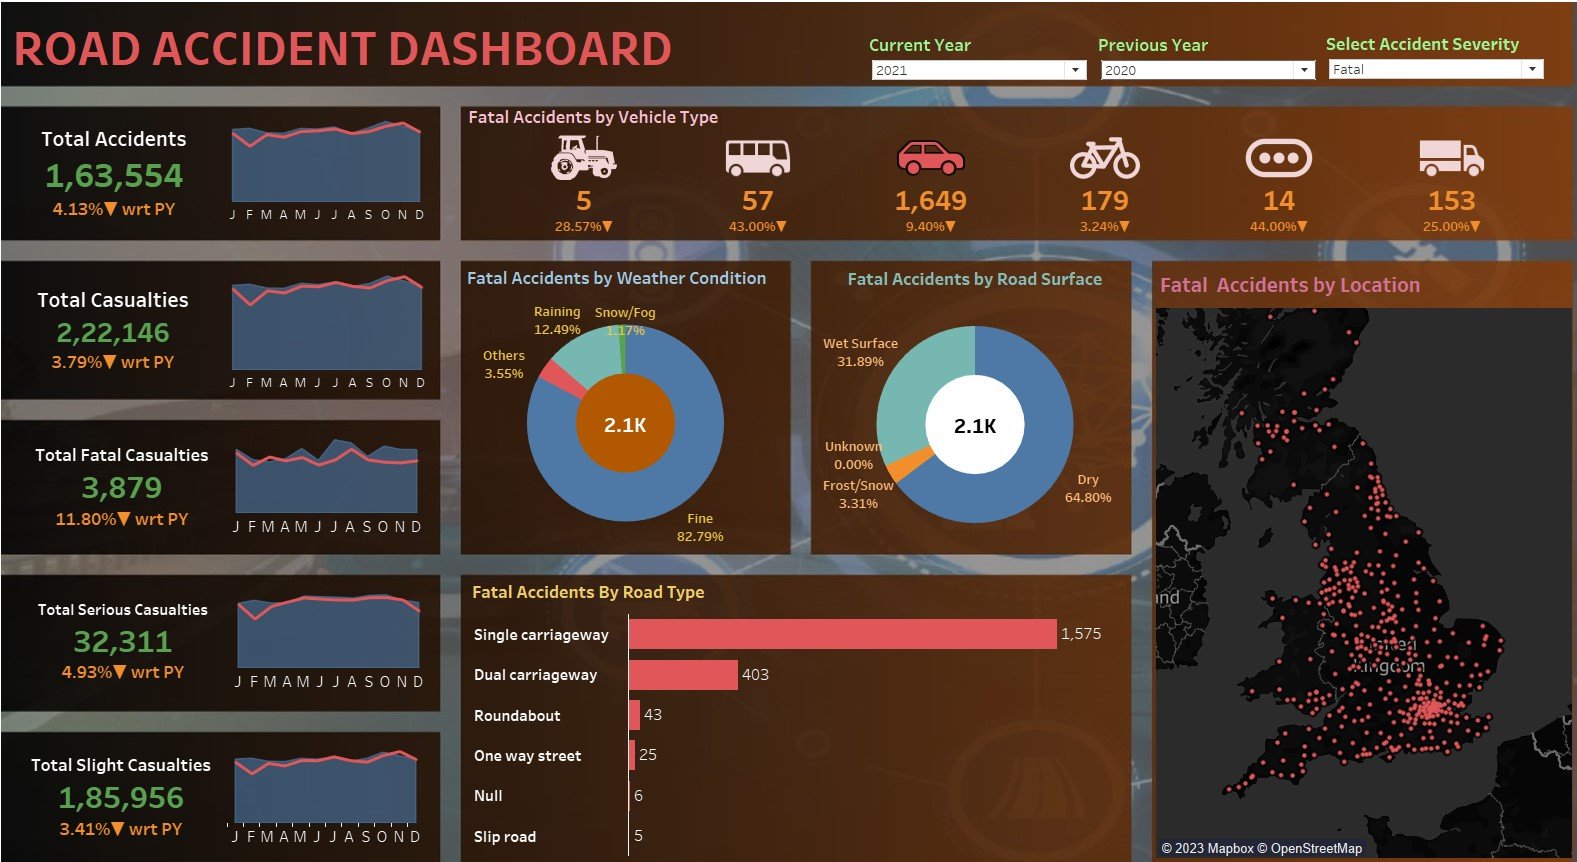

The dashboard page shown, as its layout file describes it:
{"tool":"tableau","page":{"name":"Dashboard 1","canvas":[1600,900],"ordinal":0},"visuals":[{"type":"image","param":"D:/Road Accident dataset/image road accident.jpg","box":[8,8,1584,884]},{"type":"text","box":[20,26,673,73]},{"type":"image","param":"D:/Road Accident dataset/vehicle colliding.jpg","box":[704,27,175,75]},{"type":"parameter","param":"[Parameters].[Parameter 1]","box":[876,45,228.7,71]},{"type":"parameter","param":"[Parameters].[Current year (copy)_1367686965370232833]","box":[1104.7,45,228.7,71]},{"type":"parameter","param":"[Parameters].[Parameter 2]","box":[1333.3,45,228.7,71]},{"type":"text","box":[476,118,460,30]},{"type":"worksheet","title":"Total Accidents","mark":"Automatic","box":[18,130,213,119]},{"type":"worksheet","title":"Accident Sparkline","mark":"Automatic","rows":["CY Accidents (copy)_1367686965373587459","Calculation_1367686965372579842"],"cols":["Accident Date"],"box":[231,130,213,119]},{"type":"worksheet","title":"Vehicle Type Image","mark":"Shape","box":[504,152,1050,45]},{"type":"worksheet","title":"Vehicle Type","mark":"Automatic","box":[504,197,1050,55]},{"type":"worksheet","title":"Weather Cond.","mark":"Pie","rows":["Calculation_1367686965458034708","Calculation_1367686965458092054"],"box":[474,278,325,285]},{"type":"worksheet","title":"Road Surface","mark":"Pie","rows":["Calculation_1367686965458034708","Calculation_1367686965458092054"],"box":[833,280,306,285]},{"type":"worksheet","title":" Total Casualties","mark":"Automatic","box":[17,283,214,128]},{"type":"worksheet","title":"Total Casualties Sparkline","mark":"Automatic","rows":["CY Casualties (copy)_1367686965383761927","Calculation_1367686965383069702"],"cols":["Accident Date"],"box":[231,283,214,128]},{"type":"worksheet","title":"By Loacation","mark":"Automatic","rows":["Latitude"],"cols":["Longitude"],"box":[1167,283,416,592]},{"type":"worksheet","title":"Fatal Casualties","mark":"Automatic","box":[30,449,205,110]},{"type":"worksheet","title":"Fatal Sparkline","mark":"Automatic","rows":["CY Fatal Casualties (copy)_1367686965389705226","Calculation_1367686965388881929"],"cols":["Accident Date"],"box":[235,449,205,110]},{"type":"worksheet","title":"Road Type","mark":"Automatic","rows":["Road_Type"],"cols":["Calculation_1367686965372579842"],"box":[479,593,660,280]},{"type":"worksheet","title":"Serious Casualties","mark":"Automatic","box":[32,604,205,110]},{"type":"worksheet","title":"Serious Sparkline","mark":"Automatic","rows":["PY Fatal Casualties (copy)_1367686965391589390","CY Fatal Casualties (copy)_1367686965390843916"],"cols":["Accident Date"],"box":[237,604,205,110]},{"type":"worksheet","title":"Slight Casualties","mark":"Automatic","box":[29,759,205,110]},{"type":"worksheet","title":"Slight Sparkline ","mark":"Automatic","rows":["PY Serious Casualties (copy)_1367686965392547856","CY Serious Casualties (copy)_1367686965392322575"],"cols":["Accident Date"],"box":[234,759,205,110]}]}

Visuals, with their boxes in screenshot pixels (x1, y1, x2, y2), scaled from the page's 1600x900 canvas onto the 1577x862 screenshot:
image: (8, 8, 1569, 854)
text: (20, 25, 683, 95)
image: (694, 26, 866, 98)
parameter: (863, 43, 1089, 111)
parameter: (1089, 43, 1314, 111)
parameter: (1314, 43, 1540, 111)
text: (469, 113, 923, 142)
"Total Accidents" worksheet: (18, 125, 228, 238)
"Accident Sparkline" worksheet: (228, 125, 438, 238)
"Vehicle Type Image" worksheet (Shape marks): (497, 146, 1532, 189)
"Vehicle Type" worksheet: (497, 189, 1532, 241)
"Weather Cond." worksheet (Pie marks): (467, 266, 788, 539)
"Road Surface" worksheet (Pie marks): (821, 268, 1123, 541)
" Total Casualties" worksheet: (17, 271, 228, 394)
"Total Casualties Sparkline" worksheet: (228, 271, 439, 394)
"By Loacation" worksheet: (1150, 271, 1560, 838)
"Fatal Casualties" worksheet: (30, 430, 232, 535)
"Fatal Sparkline" worksheet: (232, 430, 434, 535)
"Road Type" worksheet: (472, 568, 1123, 836)
"Serious Casualties" worksheet: (32, 578, 234, 684)
"Serious Sparkline" worksheet: (234, 578, 436, 684)
"Slight Casualties" worksheet: (29, 727, 231, 832)
"Slight Sparkline " worksheet: (231, 727, 433, 832)
